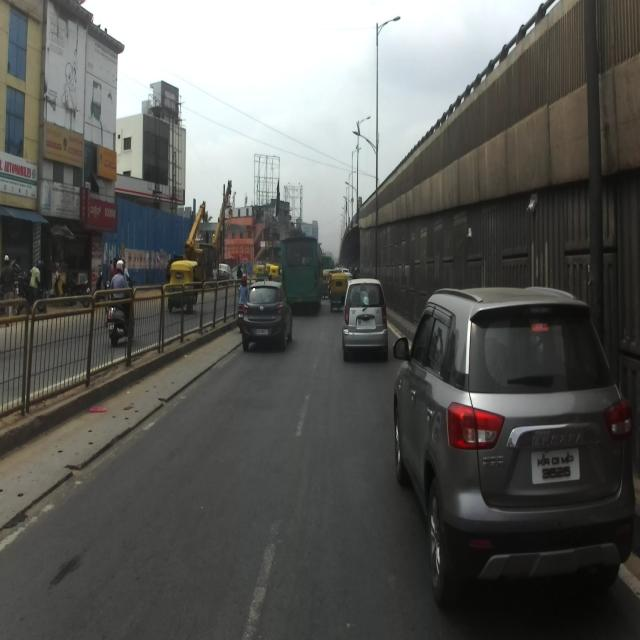autorickshaw: (167, 259, 200, 313), (330, 272, 347, 312), (269, 264, 280, 282), (255, 264, 265, 282), (264, 262, 272, 276)
bus: (281, 236, 322, 312), (322, 254, 334, 268)
car: (392, 286, 634, 608), (340, 278, 388, 360), (242, 281, 292, 351)
motorcycle: (49, 266, 74, 305), (63, 272, 90, 308)
scooter: (105, 290, 133, 346), (237, 286, 245, 333)
